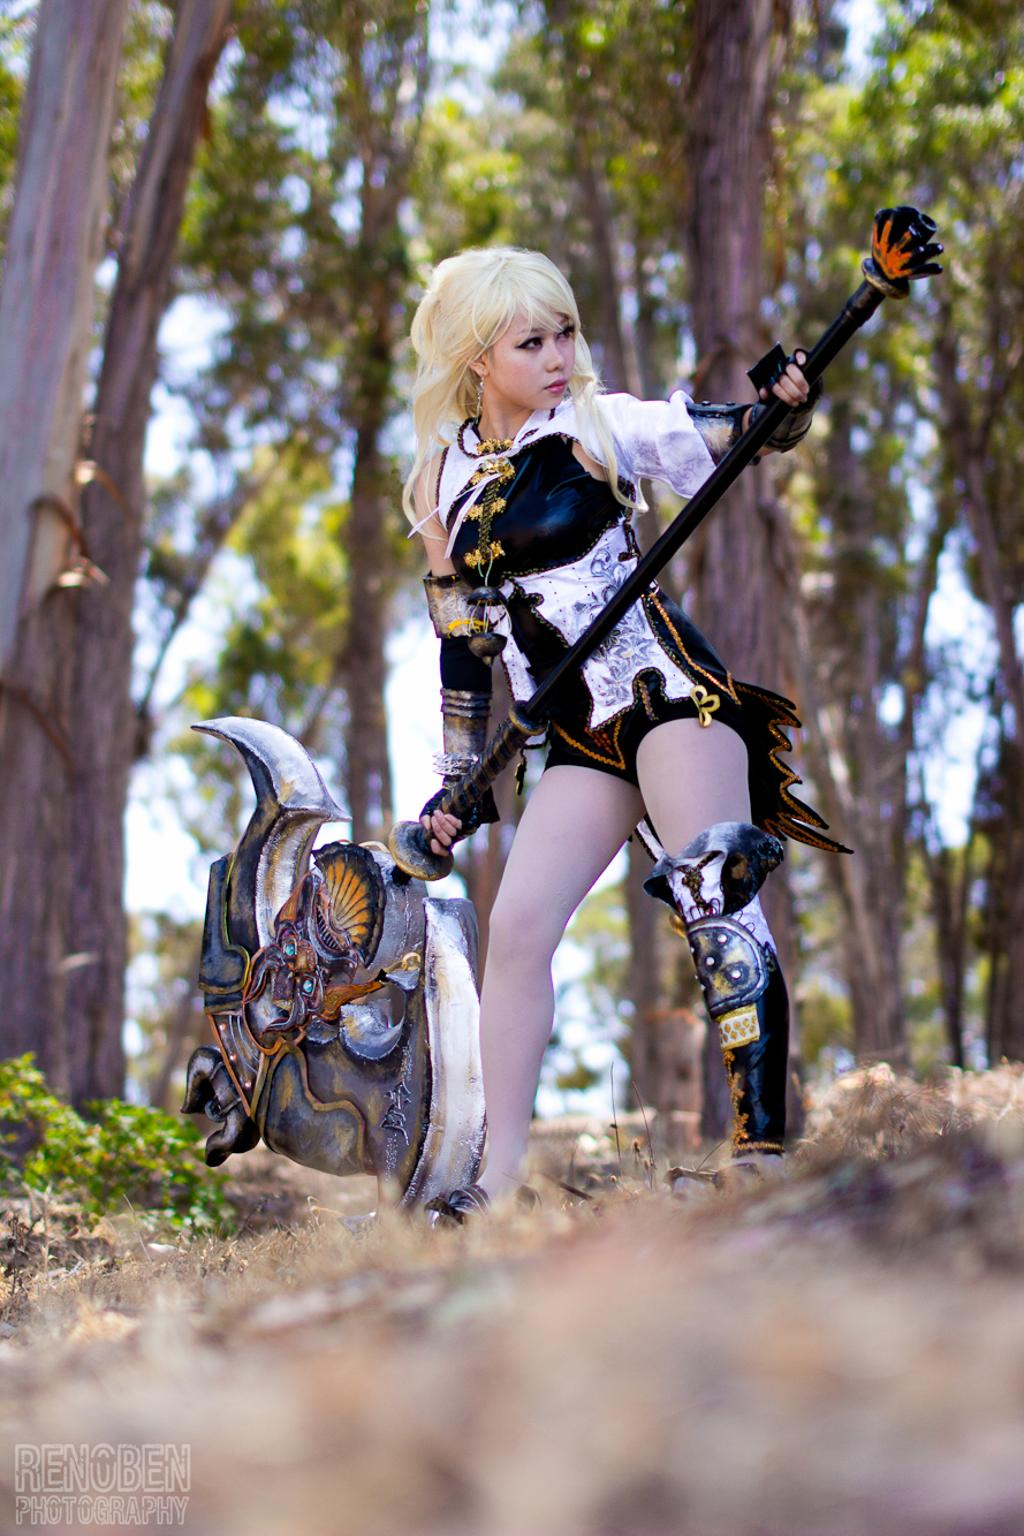face: (495, 288, 579, 411)
